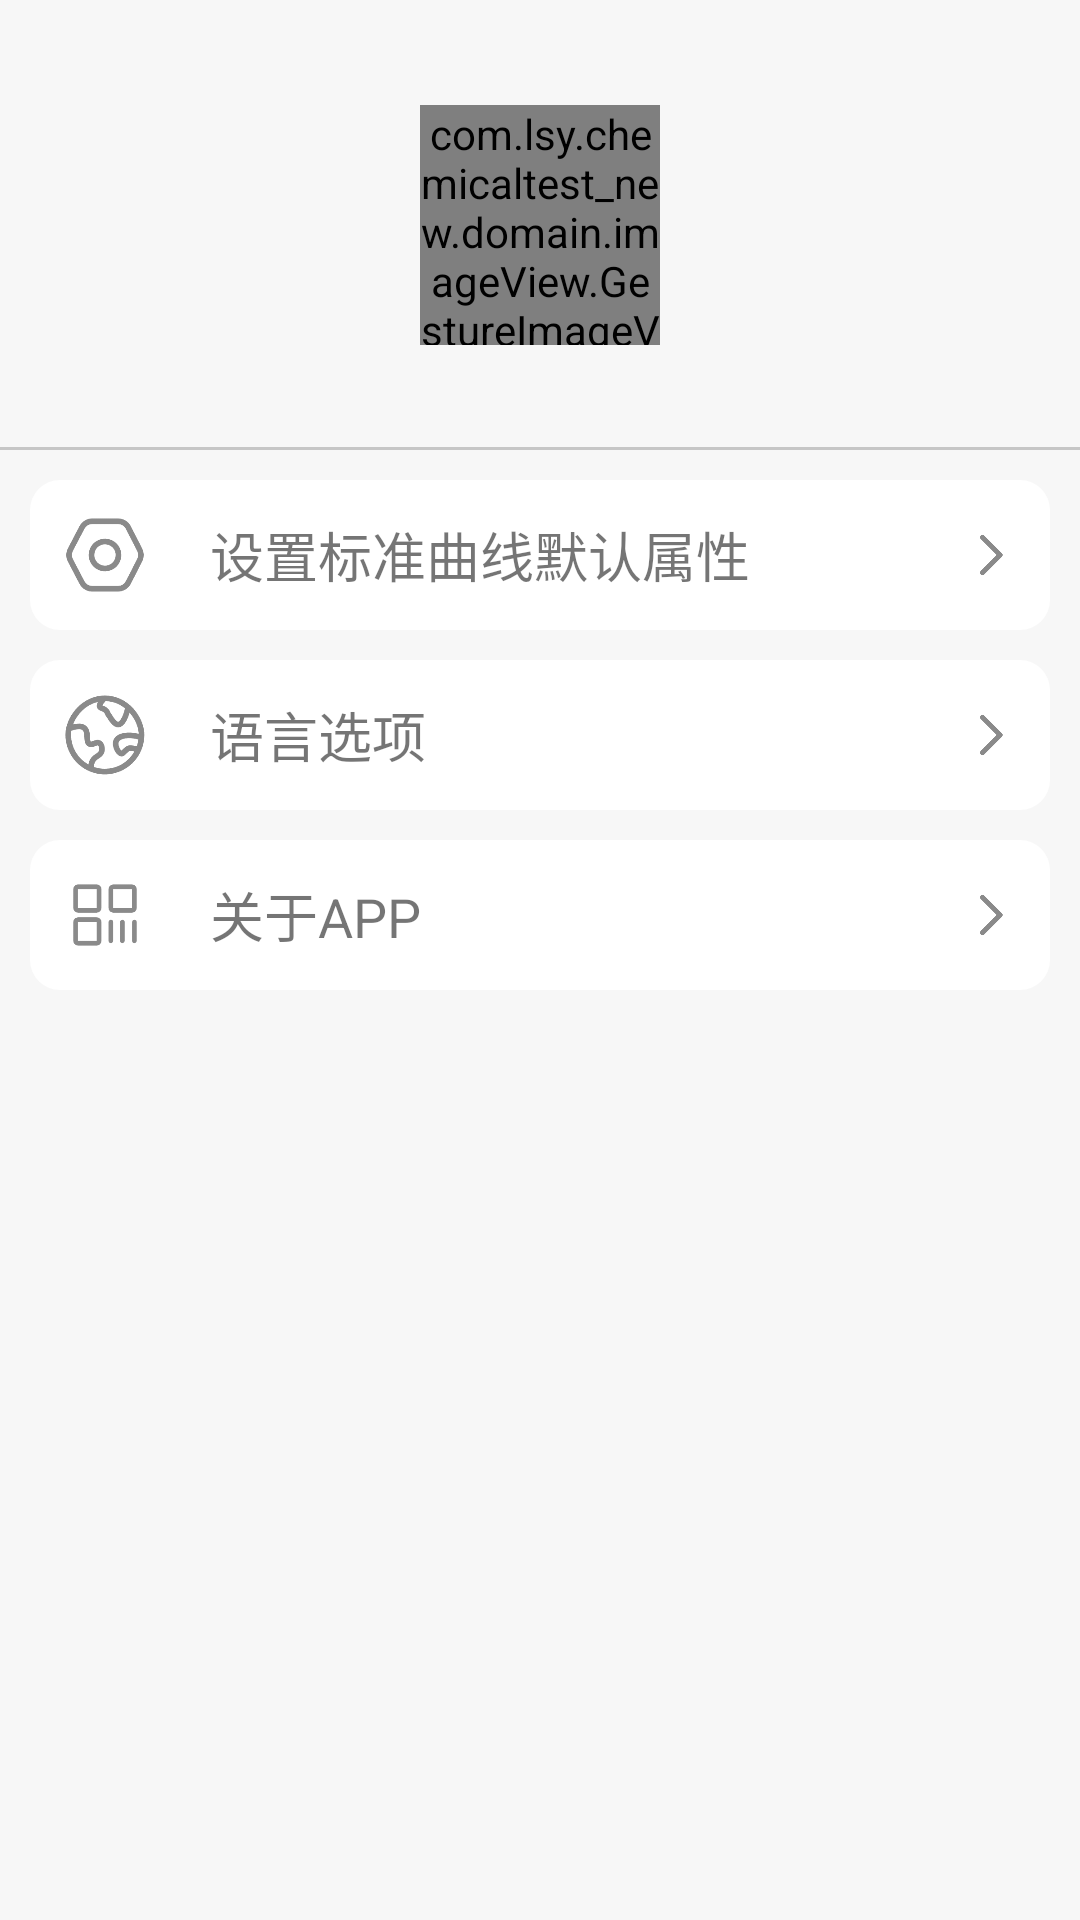

Screen size 1080 x 1920. Icon name, then its center in pixels as [x,y]:
进入: [991,555], [991,735], [991,915]
